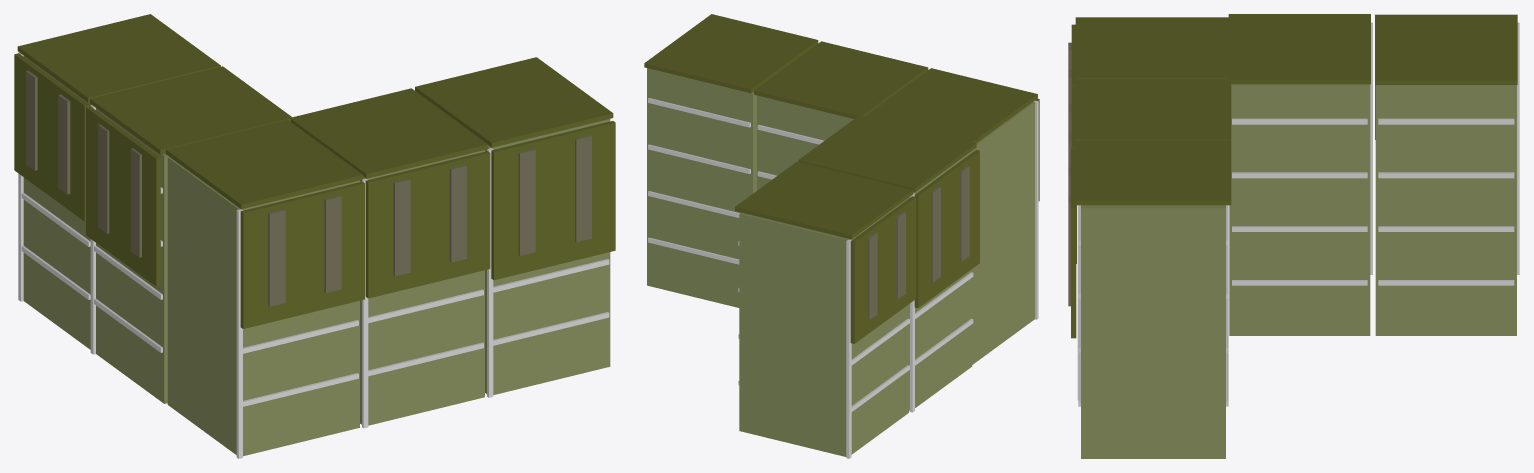
Rendered from SM_HescoEsquina_v4_Red_e0_Sano_LOD0.fbx.
3 renders of one model, left to right at view 1: azimuth 30°, elevation 25°; view 2: azimuth 150°, elevation 25°; view 3: azimuth 270°, elevation 25°, orthographic. The views are drawn at different scales.
Visible parts, largest first — view 1: SM_hesco_piezas_v16_LOD0; view 2: SM_hesco_piezas_v16_LOD0; view 3: SM_hesco_piezas_v16_LOD0.
Part boxes in pixels (x1=…): SM_hesco_piezas_v16_LOD0: x1=14, y1=14, x2=615, y2=458; SM_hesco_piezas_v16_LOD0: x1=644, y1=14, x2=1039, y2=458; SM_hesco_piezas_v16_LOD0: x1=1068, y1=14, x2=1519, y2=458.
Size of the model in its own units: 3.41 by 2.16 by 3.42.
